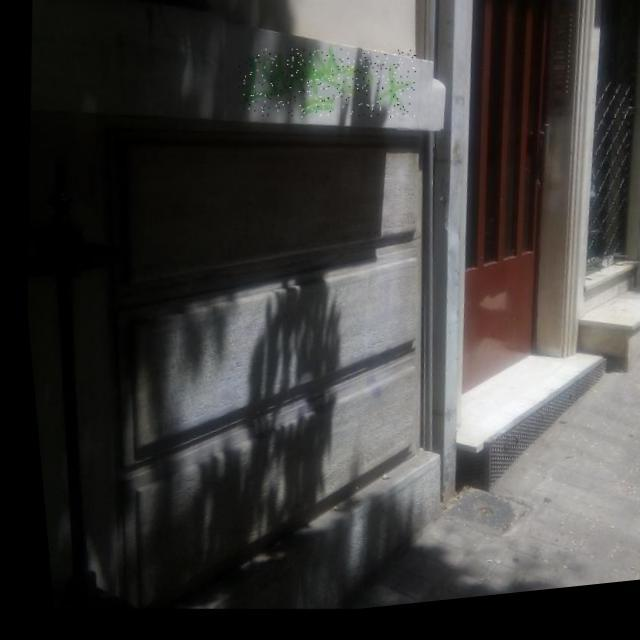-: (231, 39, 418, 140)
